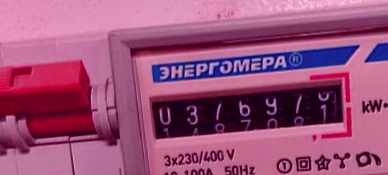0: (157, 102, 175, 125)
1: (319, 101, 330, 124)
3: (186, 102, 201, 124)
6: (237, 93, 254, 117)
7: (211, 96, 227, 121), (291, 88, 307, 112)
9: (264, 92, 280, 115)
screen: (140, 66, 360, 160)
